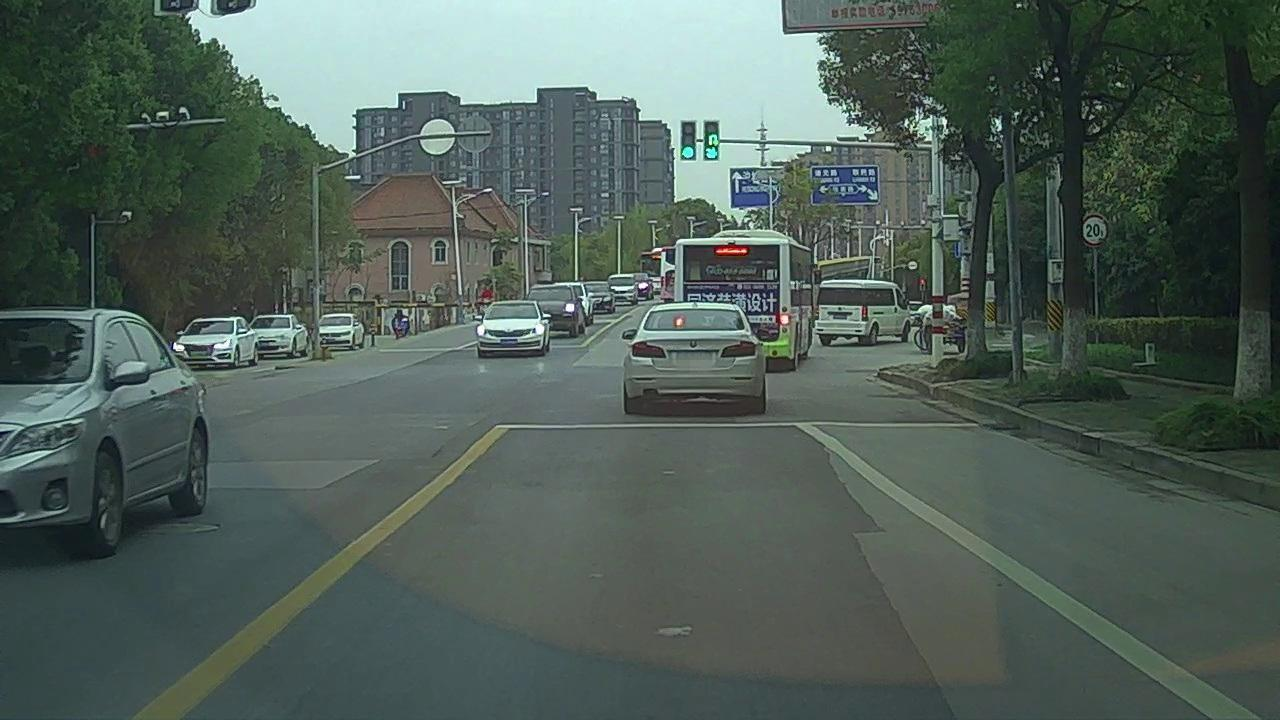traffic_light: (705, 119, 718, 159), (683, 122, 694, 160)
